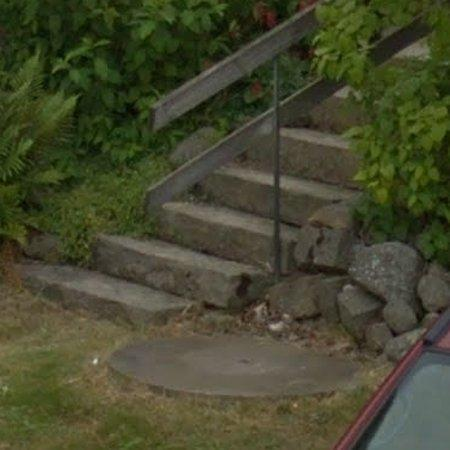stairs: (23, 135, 275, 324), (281, 92, 360, 318)
